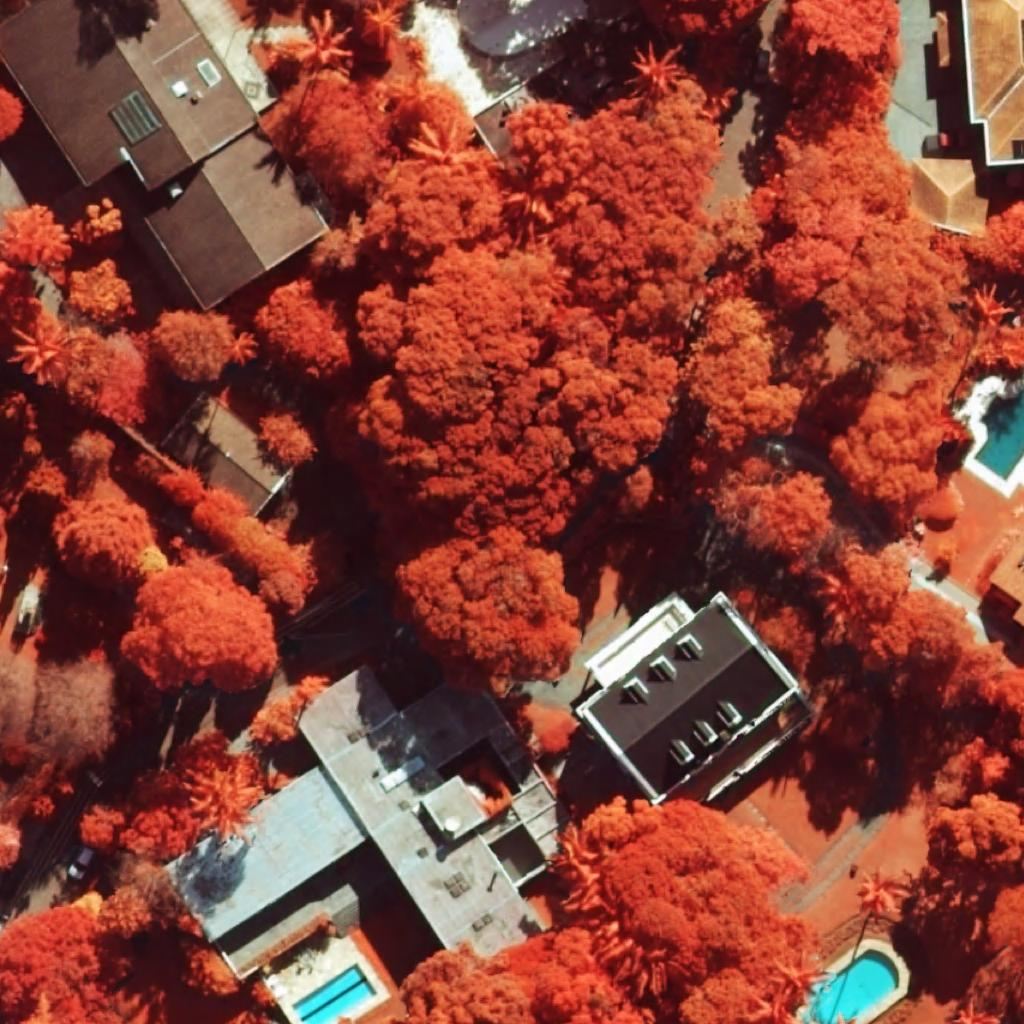pool: (811, 949, 899, 1024), (292, 963, 376, 1024), (974, 389, 1024, 481)
